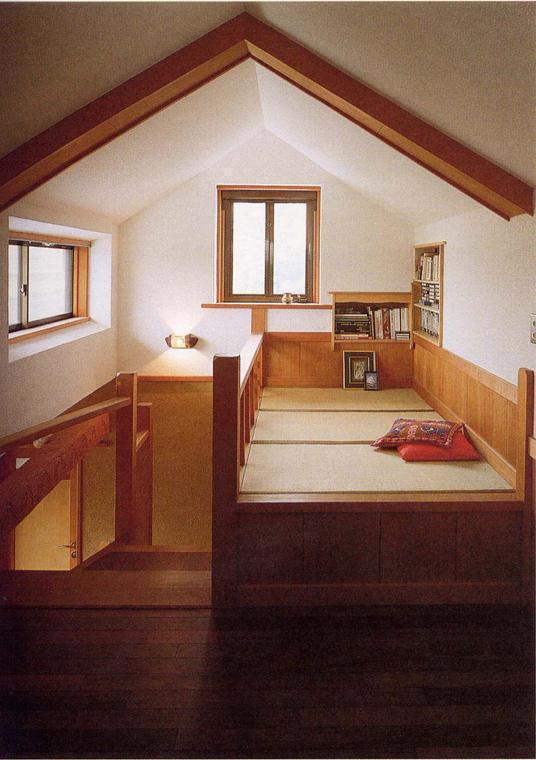Escaleras: (12, 406, 210, 607)
